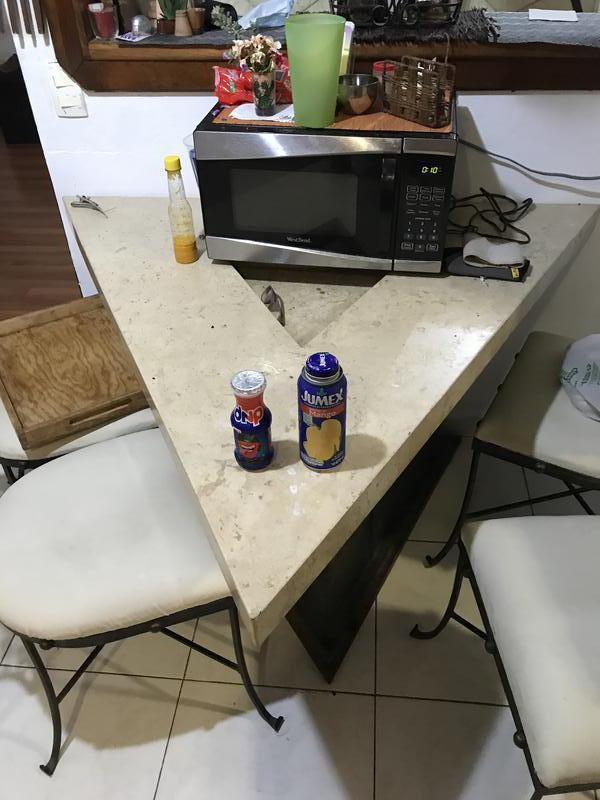danup: (230, 372, 274, 473)
jugo_jumex: (294, 353, 350, 470)
